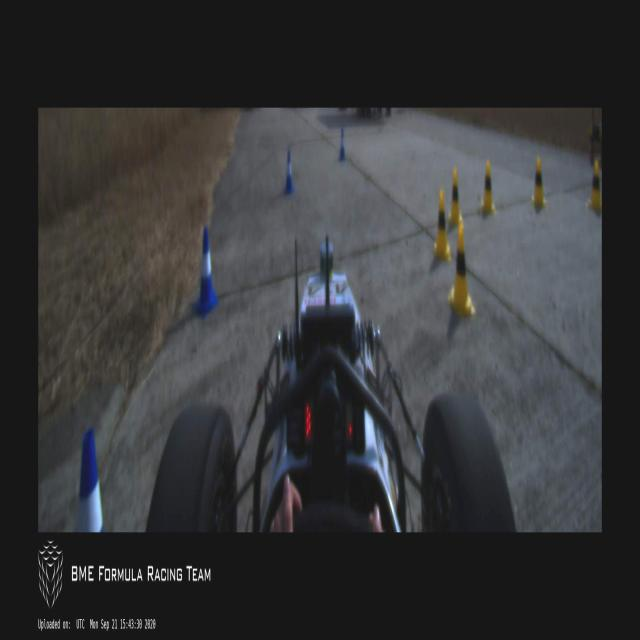blue_cone: (78, 431, 104, 532), (193, 228, 219, 316), (282, 150, 294, 196), (338, 128, 346, 162)
yellow_cone: (448, 226, 476, 320), (433, 192, 451, 260), (479, 160, 496, 212), (586, 160, 602, 212), (448, 168, 462, 226), (532, 157, 546, 206)
